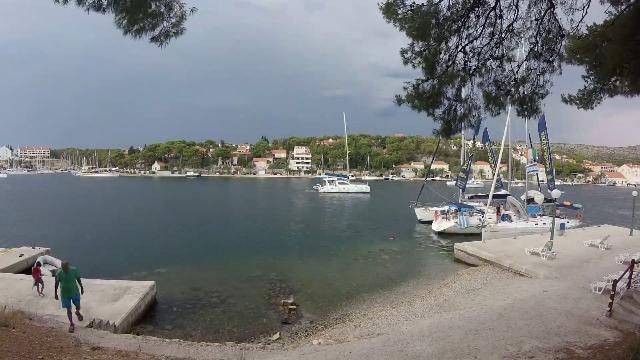Sailboat: (310, 175, 376, 198)
